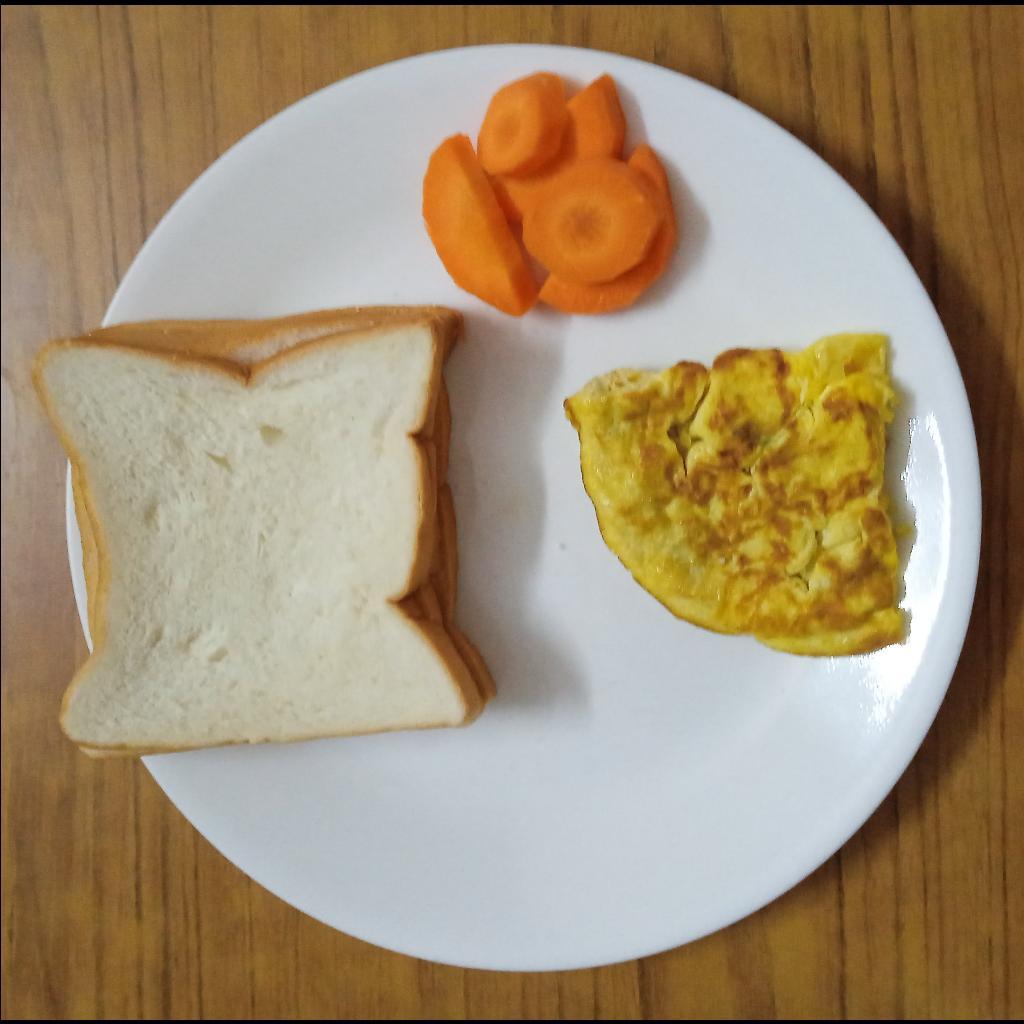bread: (33, 305, 501, 758)
carrot: (421, 71, 676, 318)
egg-poached: (562, 332, 904, 658)
